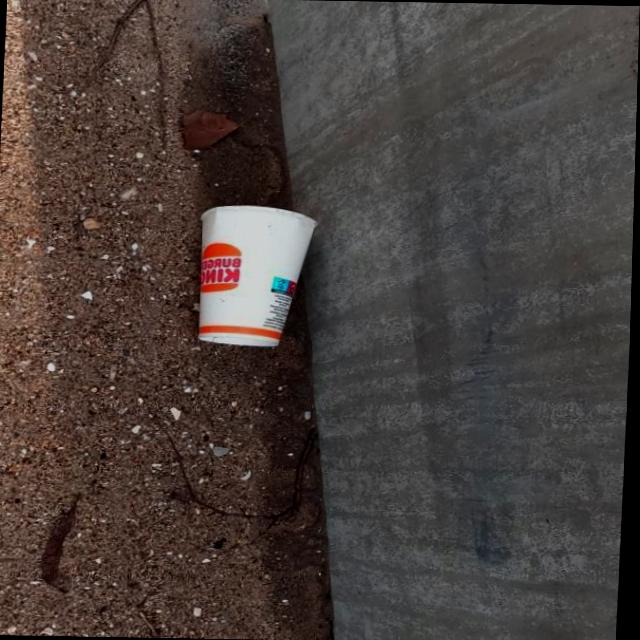Cup: (193, 202, 322, 348)
